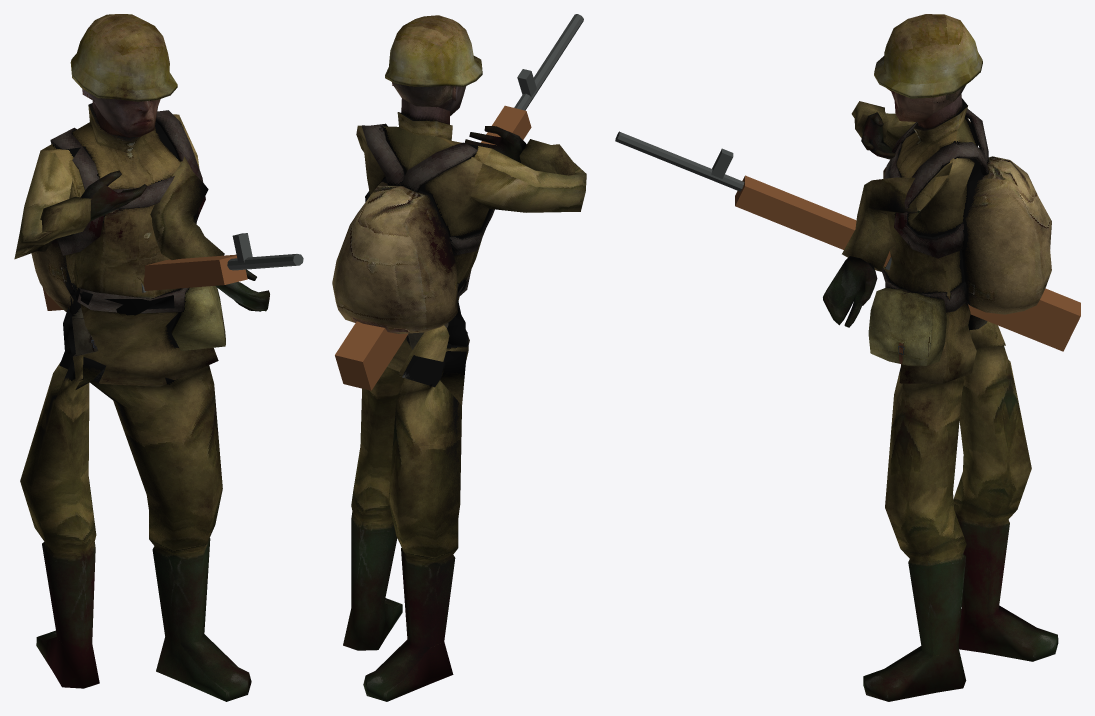
File: soviet_ww2_soldier_run_00.glb
3 views of the same model, side by side, from view 1: azimuth 30°, elevation 25°; view 2: azimuth 150°, elevation 25°; view 3: azimuth 270°, elevation 25° (orthographic). The views are drawn at different scales.
Visible parts, largest first — view 1: final_Static, SovietRifle_Generated; view 2: final_Static, SovietRifle_Generated; view 3: final_Static, SovietRifle_Generated.
Boxes of the visible parts, x1,y1,x2,y2 form: final_Static: [14, 14, 269, 701]; SovietRifle_Generated: [42, 233, 303, 310]; final_Static: [332, 15, 586, 701]; SovietRifle_Generated: [335, 14, 583, 390]; final_Static: [823, 14, 1058, 701]; SovietRifle_Generated: [615, 131, 1080, 351].
Bounding box in the file's own units: 0.6444 × 1.72 × 1.14.
3 materials, 1 textured.
